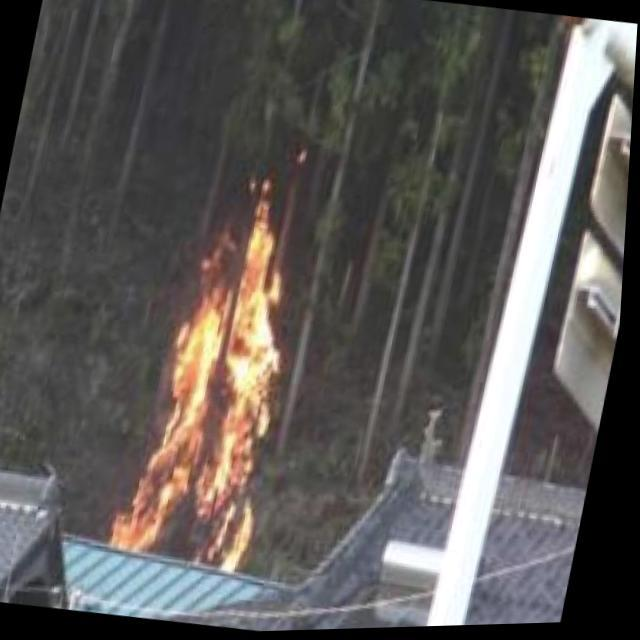fire: (122, 169, 338, 586)
